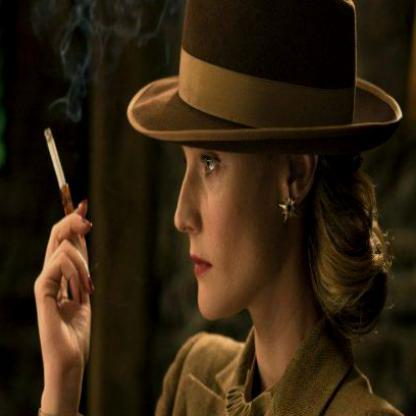cigarette: (42, 127, 74, 216)
person: (155, 10, 370, 415)
smoke: (30, 0, 149, 71)
